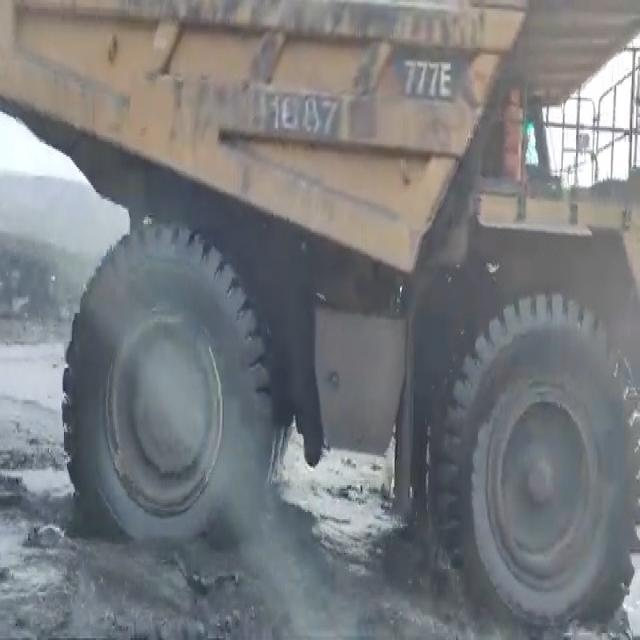dump_truck: (2, 1, 640, 630)
